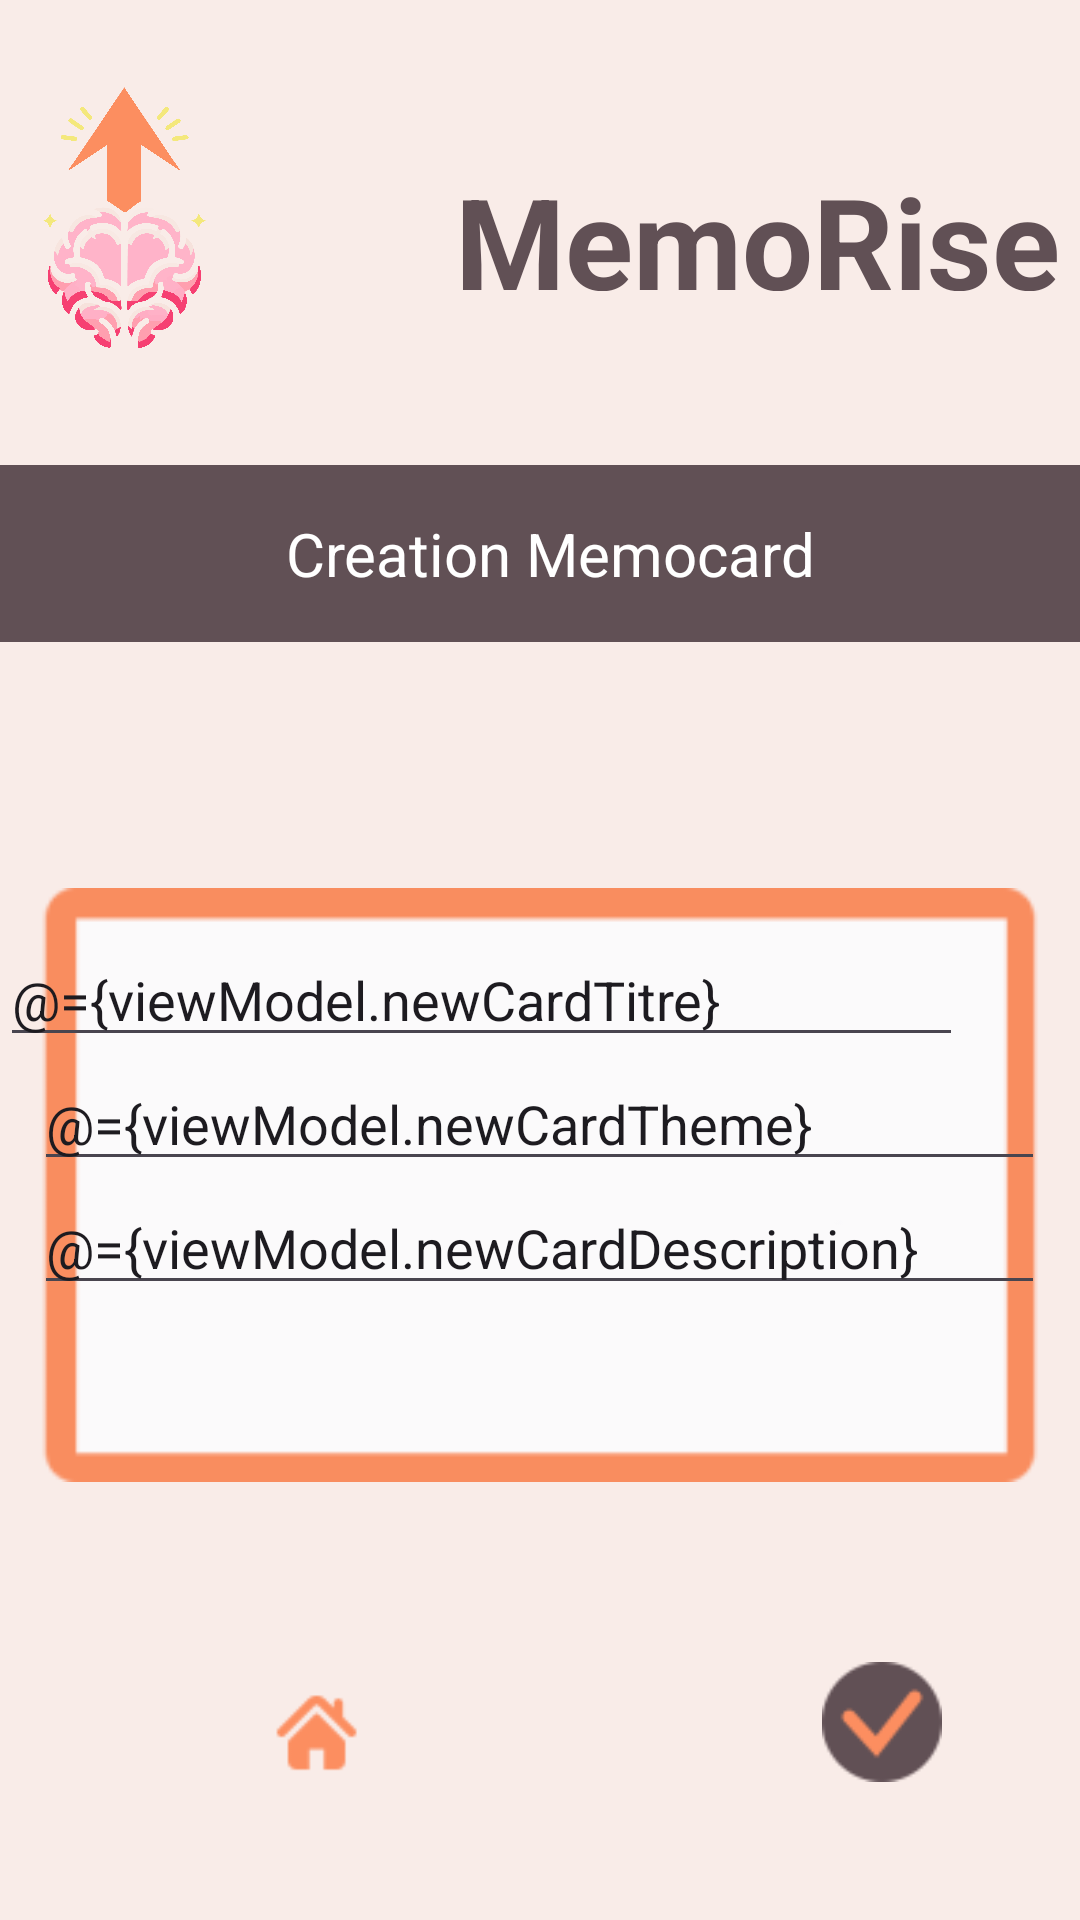

Point at icon controls on the screen. Image size 1080*1920, points as (x=x, y=y).
home: (x=316, y=1732)
memorise: (x=125, y=217)
valid: (x=882, y=1722)
